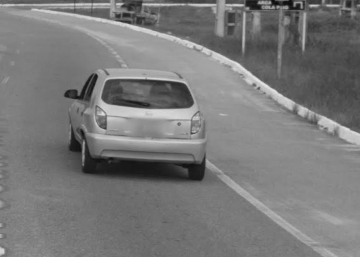car: (61, 64, 213, 186)
